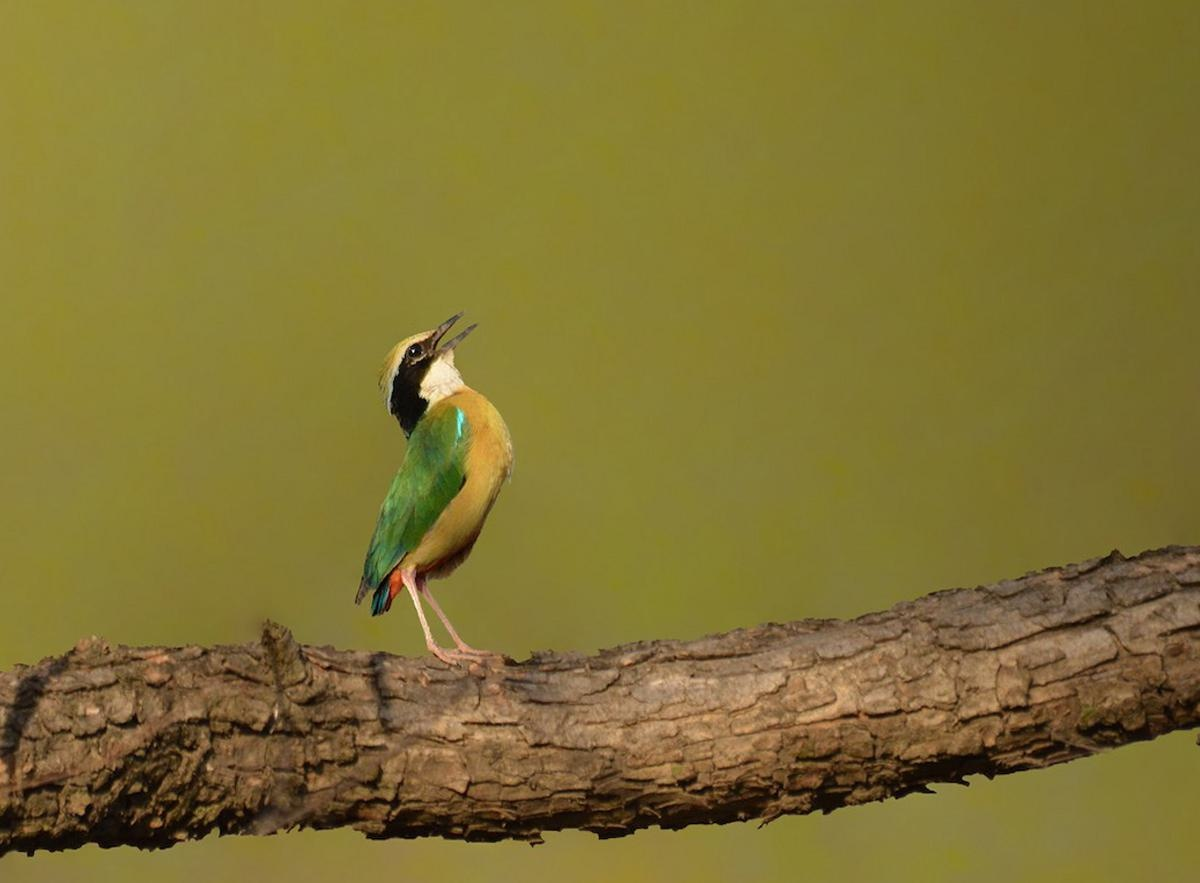pitta: (353, 255, 557, 679)
